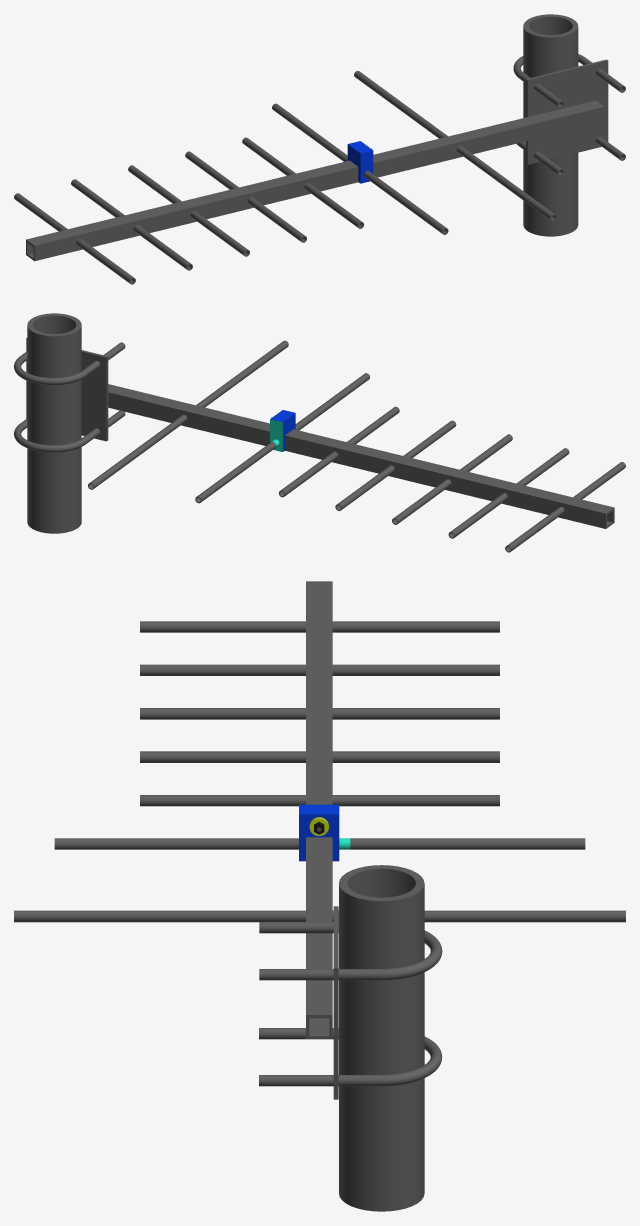
File: Yagi-uda Sin Texto.glb
3 views of the same model, one above another, from view 1: azimuth 30°, elevation 25°; view 2: azimuth 150°, elevation 25°; view 3: azimuth 270°, elevation 25° (orthographic). The views are drawn at different scales.
Visible parts, largest first — view 1: Cube, Cilindro.012, Cubo.001, Cilindro.006, Cilindro.005, Cilindro, Cilindro.003, Cilindro.002, Cilindro.001, Cilindro.004, Cilindro.008, Cubo (+1 smaller); view 2: Cube, Cilindro.012, Cubo.001, Cilindro.006, Cilindro.005, Cilindro.008, Cilindro.002, Cilindro.004, Cilindro, Cilindro.003, Cilindro.001, Cilindro.011 (+1 smaller); view 3: Cilindro.012, Cube, Cilindro.006, Cilindro.005, Cilindro.001, Cilindro.003, Cilindro.004, Cilindro, Cilindro.002, Cilindro.008, Cilindro.011, Cubo (+1 smaller).
Boxes of the visible parts, box(x1,y1,x2,y2) form: Cube: box(26, 100, 604, 261); Cilindro.012: box(523, 14, 578, 236); Cubo.001: box(526, 59, 608, 164); Cilindro.006: box(354, 71, 556, 221); Cilindro.005: box(272, 103, 448, 234); Cilindro: box(71, 179, 192, 270); Cilindro.003: box(128, 165, 249, 256); Cilindro.002: box(242, 137, 364, 228); Cilindro.001: box(14, 193, 135, 284); Cilindro.004: box(185, 151, 306, 242); Cilindro.008: box(513, 54, 625, 107); Cubo: box(347, 141, 373, 183); Cube: box(108, 384, 614, 528); Cilindro.012: box(27, 313, 81, 533); Cubo.001: box(26, 338, 108, 441); Cilindro.006: box(88, 340, 288, 489); Cilindro.005: box(195, 373, 369, 503); Cilindro.008: box(14, 342, 125, 385); Cilindro.002: box(279, 406, 399, 497); Cilindro.004: box(335, 420, 456, 510); Cilindro: box(448, 448, 569, 538); Cilindro.003: box(392, 434, 512, 524); Cilindro.001: box(505, 462, 625, 552); Cilindro.011: box(14, 410, 125, 452); Cilindro.012: box(339, 865, 424, 1211); Cube: box(306, 581, 332, 1039); Cilindro.006: box(14, 910, 625, 922); Cilindro.005: box(54, 838, 585, 849); Cilindro.001: box(140, 621, 499, 632); Cilindro.003: box(140, 708, 499, 719); Cilindro.004: box(140, 751, 499, 762); Cilindro: box(140, 664, 499, 675); Cilindro.002: box(140, 795, 499, 806); Cilindro.008: box(259, 922, 442, 980); Cilindro.011: box(259, 1028, 442, 1086); Cubo: box(299, 804, 339, 861).
Bounding box in the file's own units: 123 × 40 × 71.48.
